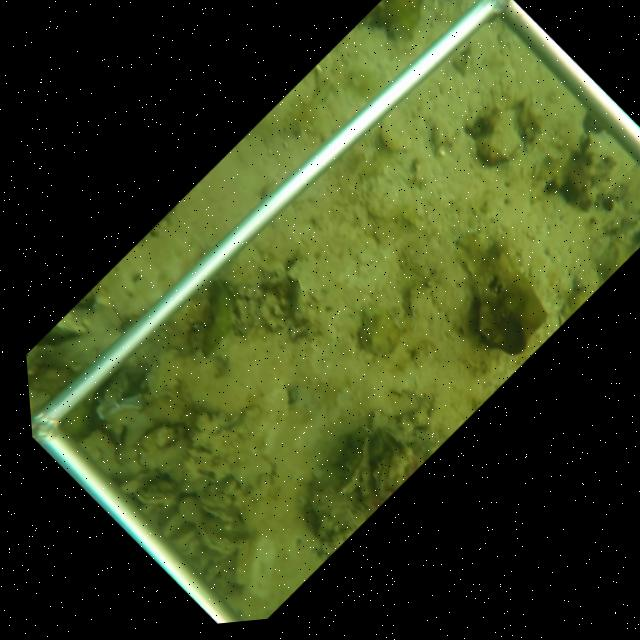Oyster-Closed: (474, 104, 527, 169), (196, 520, 242, 556), (132, 488, 177, 507)
